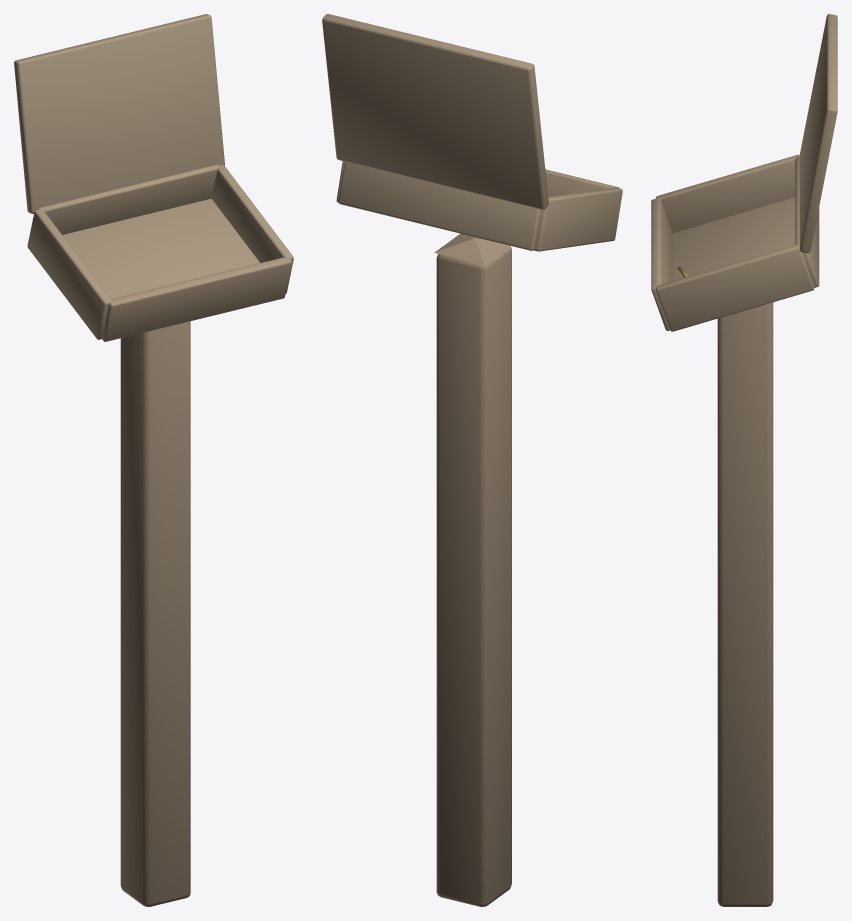
The model's file is trail_register.glb.
3 renders of one model, left to right at view 1: azimuth 30°, elevation 25°; view 2: azimuth 150°, elevation 25°; view 3: azimuth 270°, elevation 25°, orthographic. The views are drawn at different scales.
Visible parts, largest first — view 1: g_plank, g_post; view 2: g_post, g_plank; view 3: g_post, g_plank.
Part boxes in pixels (box(x1,y1,x2,y2)): g_plank: box(14, 14, 293, 341); g_post: box(120, 321, 190, 906); g_post: box(434, 233, 511, 906); g_plank: box(322, 14, 622, 251); g_post: box(717, 302, 773, 906); g_plank: box(651, 14, 837, 331).
Size of the model in its own units: 0.45 by 1.83 by 0.3692.
